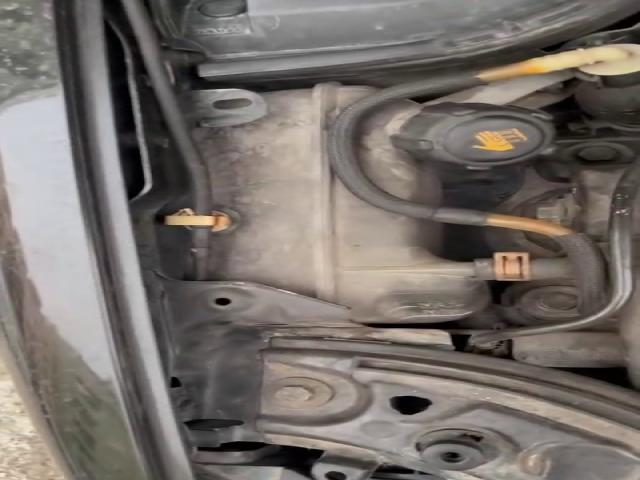antifreeze_tank: (194, 83, 605, 322), (353, 100, 554, 203)
